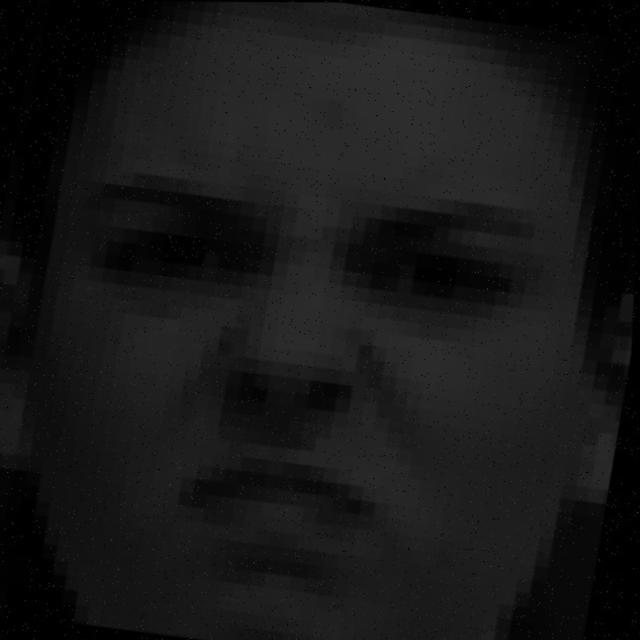Disgust: (19, 137, 640, 640)
